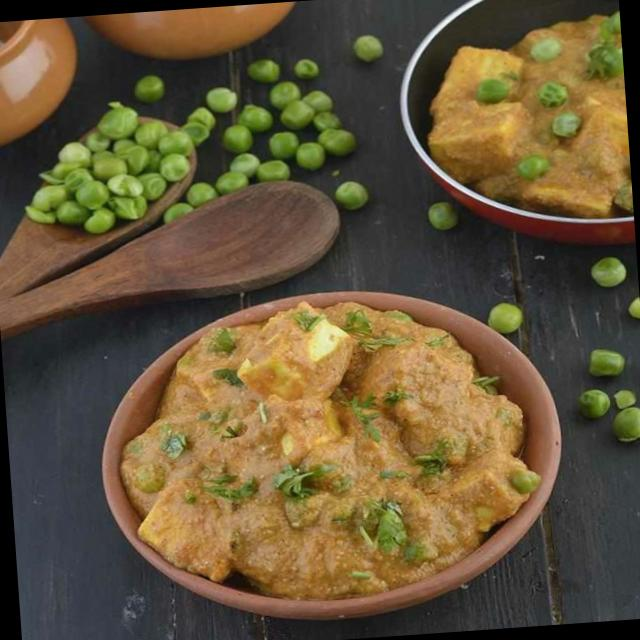ShahiPaneer: (109, 281, 544, 624), (406, 0, 632, 251)
